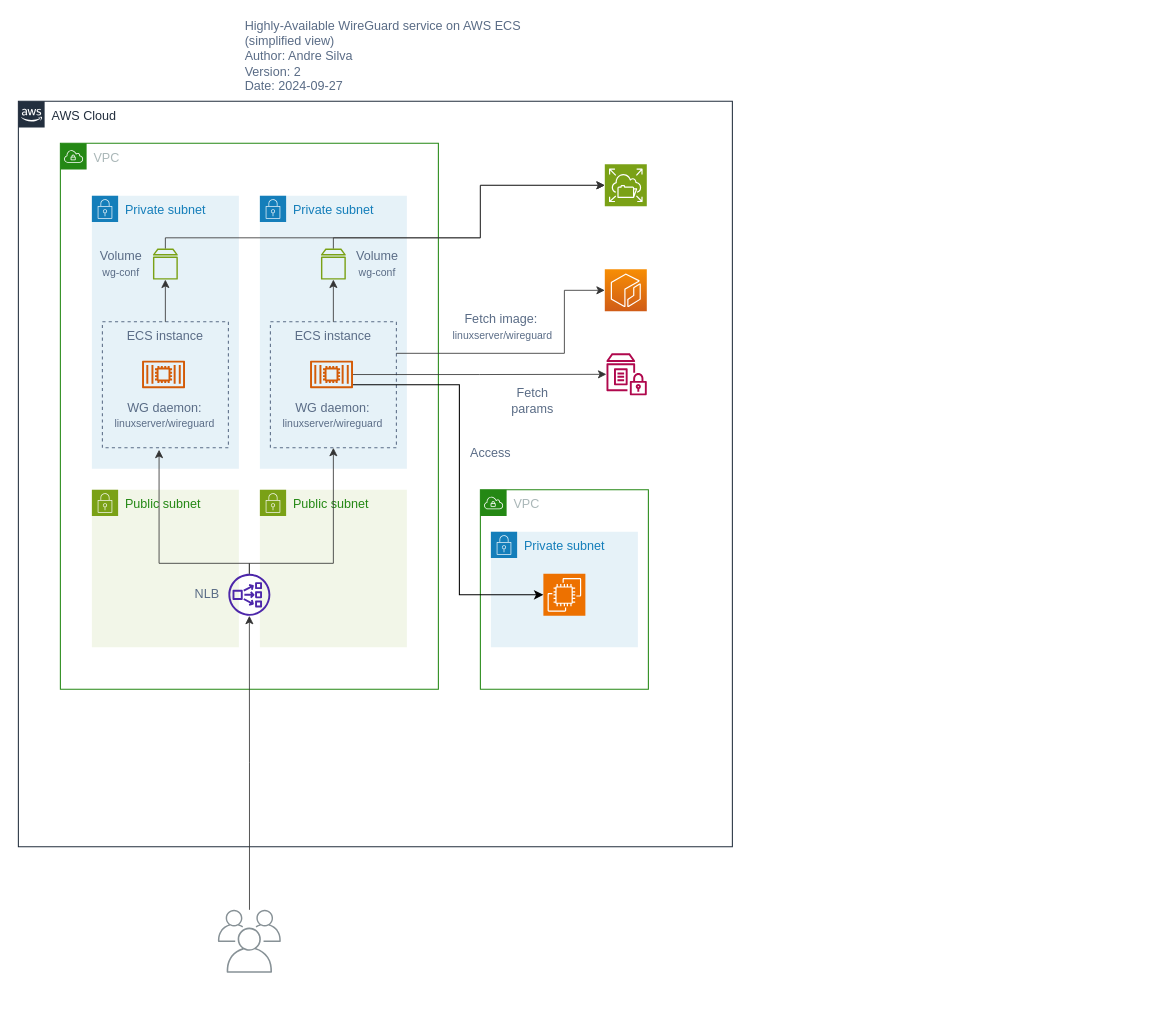
This 1171x1012 diagram has some shape labels left out. Each missing label, with the box of its shape:
EC2 instance (example): (542, 573, 585, 616)
ECR: (604, 268, 647, 311)
EFS: /etc/wireguard: (604, 163, 647, 206)
Parameter Store: WG config: (606, 353, 646, 395)
Users: (217, 909, 280, 972)
